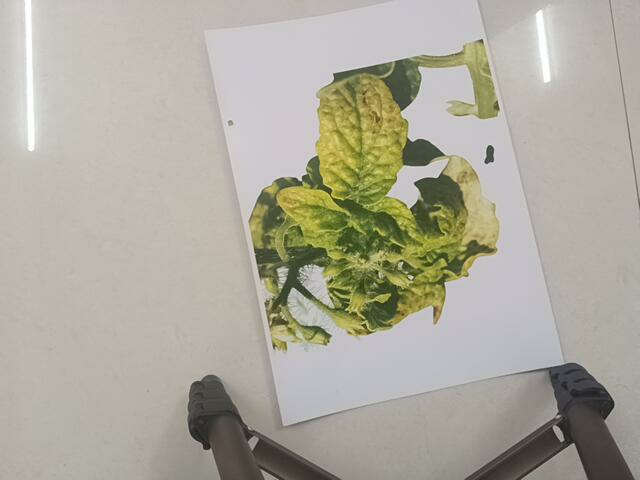Tomamto_Leaf_curl_virus: (235, 60, 533, 355)
